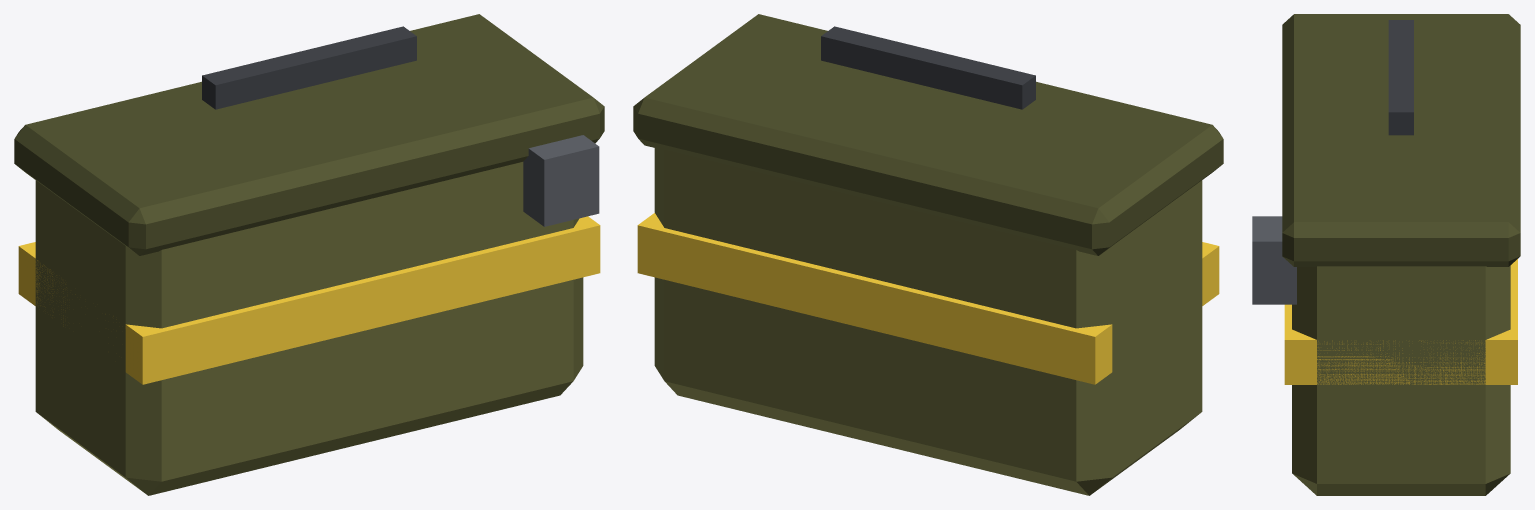
Rendered from ammo_box.glb.
3 renders of one model, left to right at view 1: azimuth 30°, elevation 25°; view 2: azimuth 150°, elevation 25°; view 3: azimuth 270°, elevation 25°, orthographic. The views are drawn at different scales.
Parts seen in each view (by area): view 1: LOD0; view 2: LOD0; view 3: LOD0.
Part boxes in pixels (x1=…): LOD0: x1=14, y1=14, x2=604, y2=495; LOD0: x1=633, y1=14, x2=1223, y2=495; LOD0: x1=1252, y1=14, x2=1520, y2=495.
Bounding box in the file's own units: 0.52 × 0.3727 × 0.27.
1 material, 1 textured.
